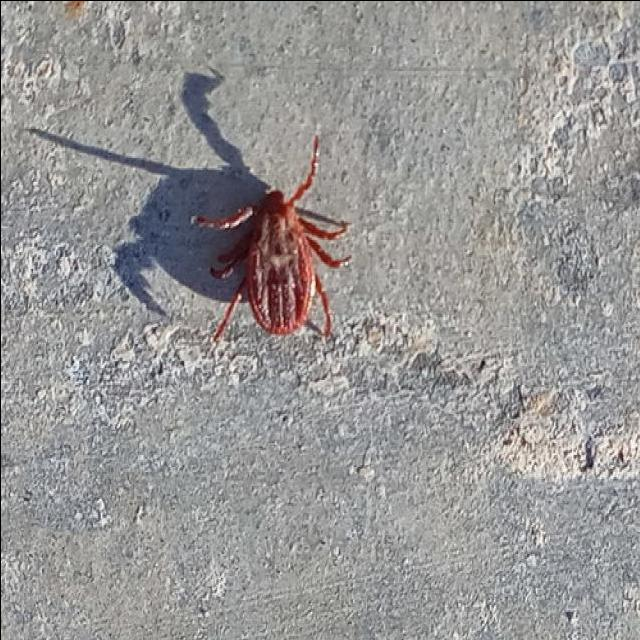Dermacentor Reticulatus-F: (189, 133, 352, 343)
